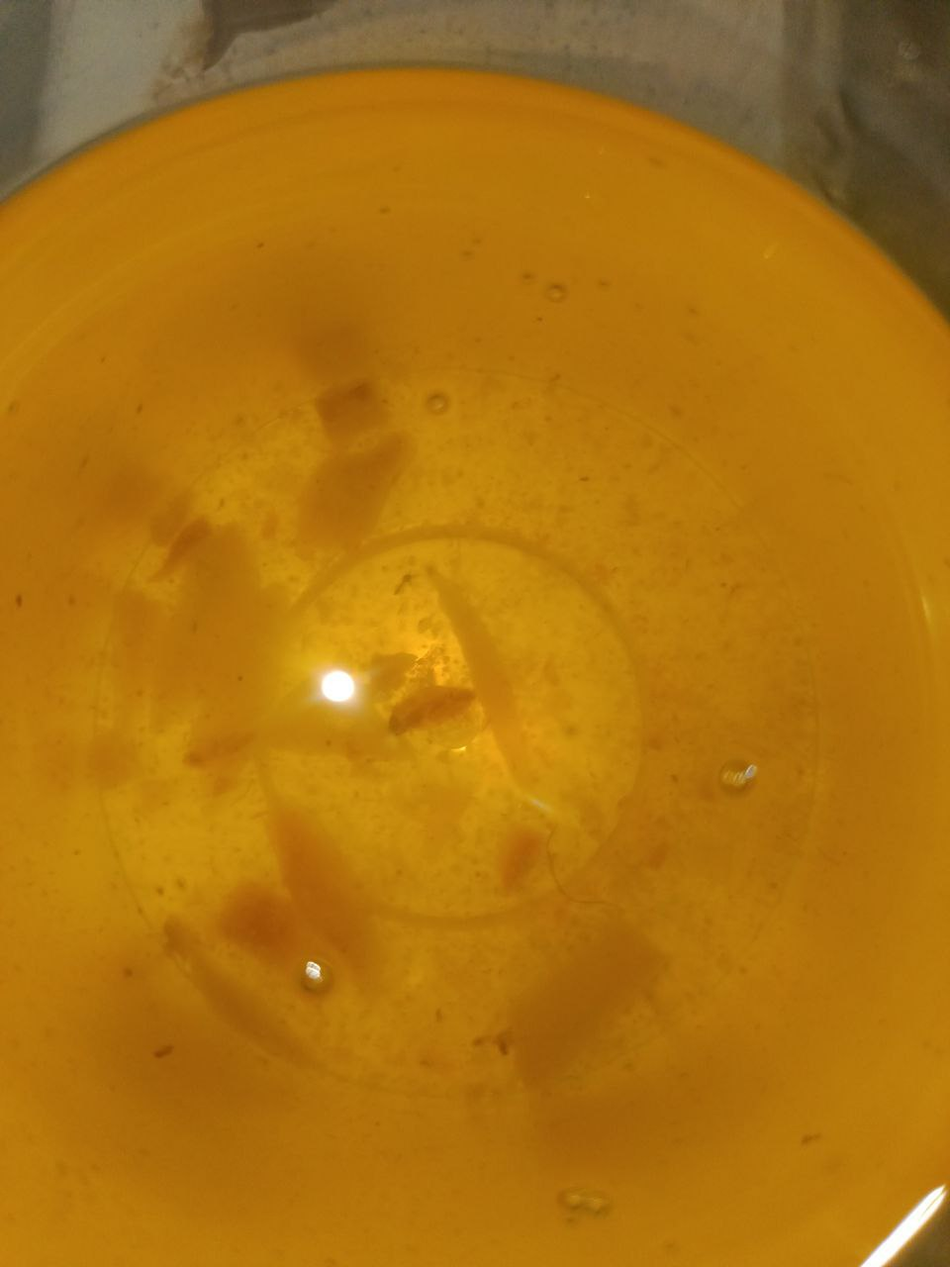reusable: (0, 66, 950, 1267)
